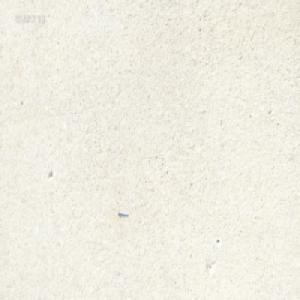Nail: (117, 210, 128, 217)
